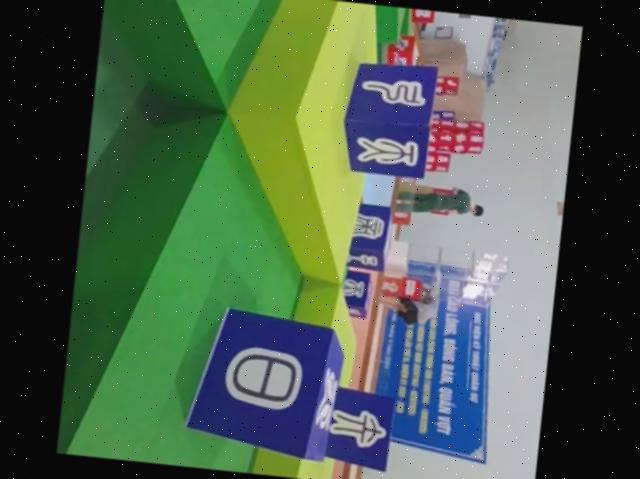R2 Fake Blue: (180, 306, 349, 467), (334, 57, 436, 179), (322, 384, 398, 472), (344, 204, 391, 274), (340, 267, 374, 316)
